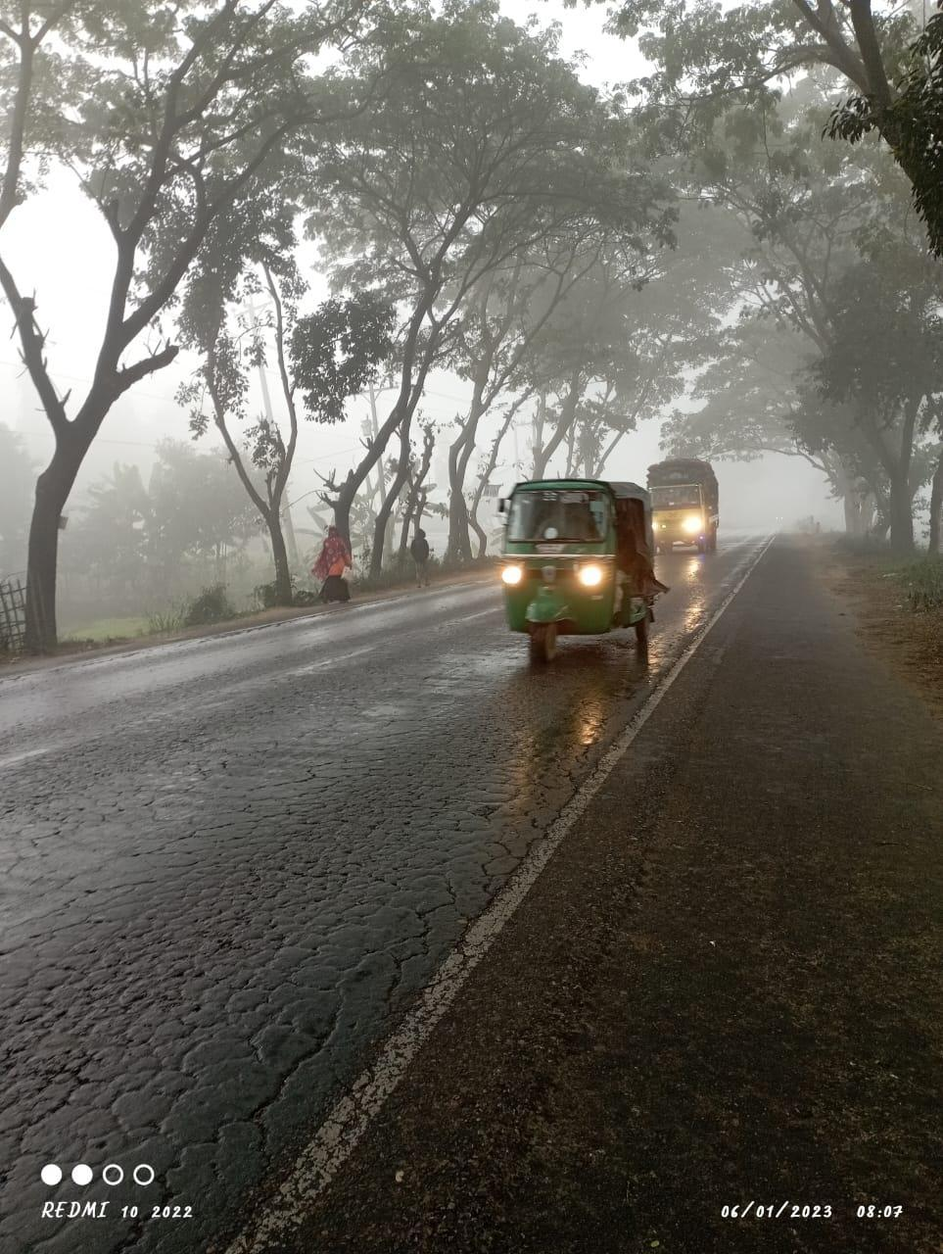Truck: (646, 451, 723, 572)
